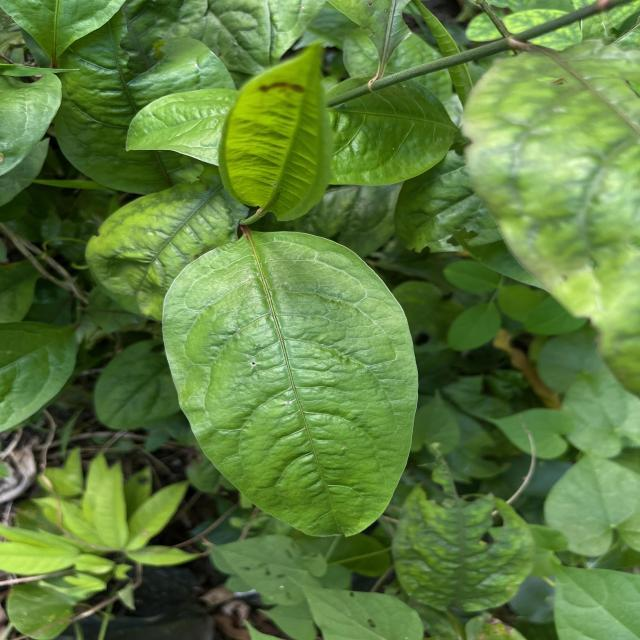Plumbago indica: (157, 229, 424, 544), (217, 37, 341, 227)
